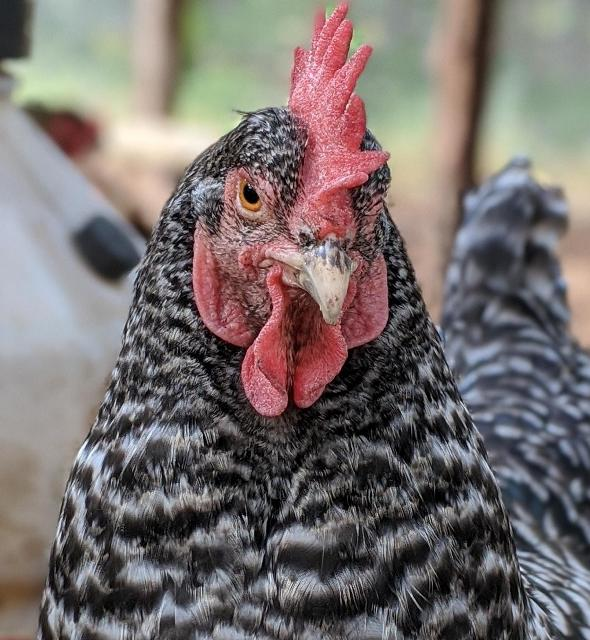Chicken: (38, 1, 590, 640)
